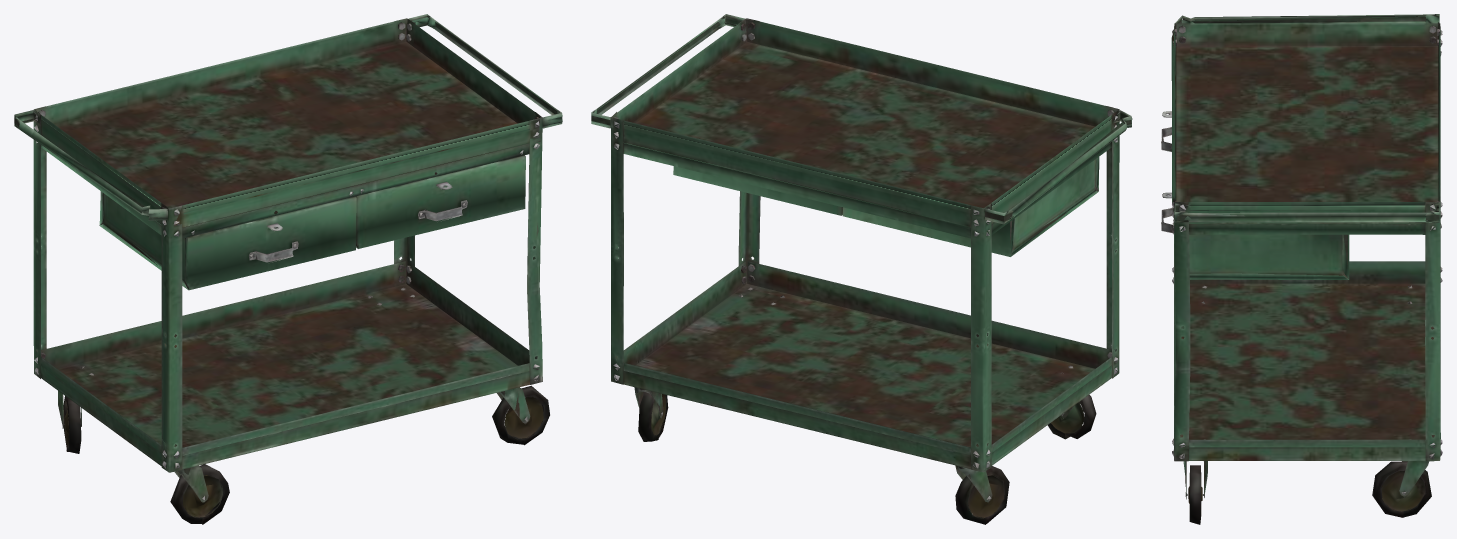
Rendered from tool_cart.glb.
3 views of the same model, side by side, from view 1: azimuth 30°, elevation 25°; view 2: azimuth 150°, elevation 25°; view 3: azimuth 270°, elevation 25° (orthographic).
Parts seen in each view (by area): view 1: tool_cart; view 2: tool_cart; view 3: tool_cart.
Boxes of the visible parts, x1,y1,x2,y2 form: tool_cart: (14,14,562,524); tool_cart: (591,14,1132,524); tool_cart: (1161,14,1442,524).
Size of the model in its own units: 1.28 by 0.9677 by 0.7549.
1 material, 1 textured.
